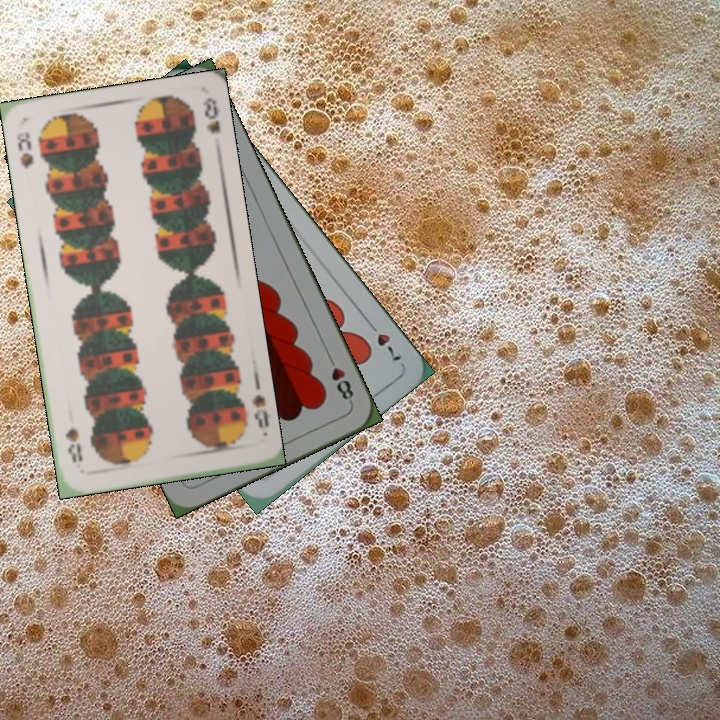H7: (362, 316, 404, 364)
H8: (323, 351, 356, 406)
S8: (12, 128, 36, 172), (248, 391, 271, 431)
